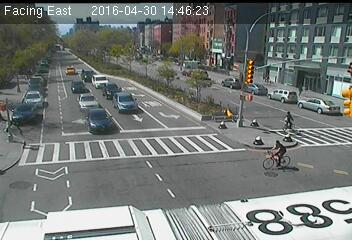neg: (234, 192, 267, 236), (96, 110, 126, 151), (111, 63, 141, 104), (41, 157, 70, 195), (266, 138, 291, 171), (232, 54, 255, 85), (7, 114, 29, 144), (312, 68, 334, 96), (170, 58, 191, 87), (24, 64, 44, 91), (204, 31, 224, 57), (137, 161, 154, 183), (276, 60, 292, 81), (136, 34, 152, 55), (63, 25, 78, 46)
pos: (279, 107, 297, 132)
